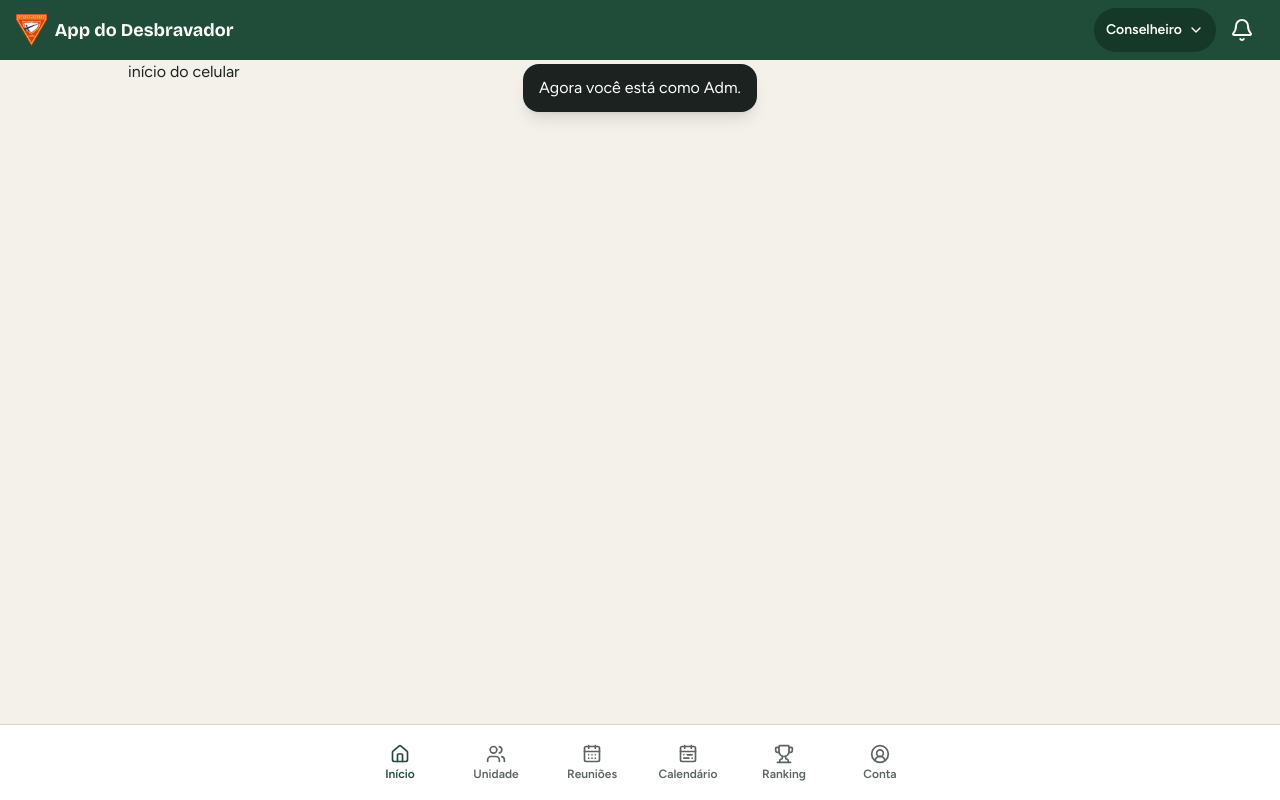
selo do papel › escolher o papel atual só fecha o menu
The image size is (1280, 800).
Click the button with aria-label "Papel: Conselheiro. Trocar de papel". click: (1155, 30)
box: x1=1094 y1=8 x2=1216 y2=52
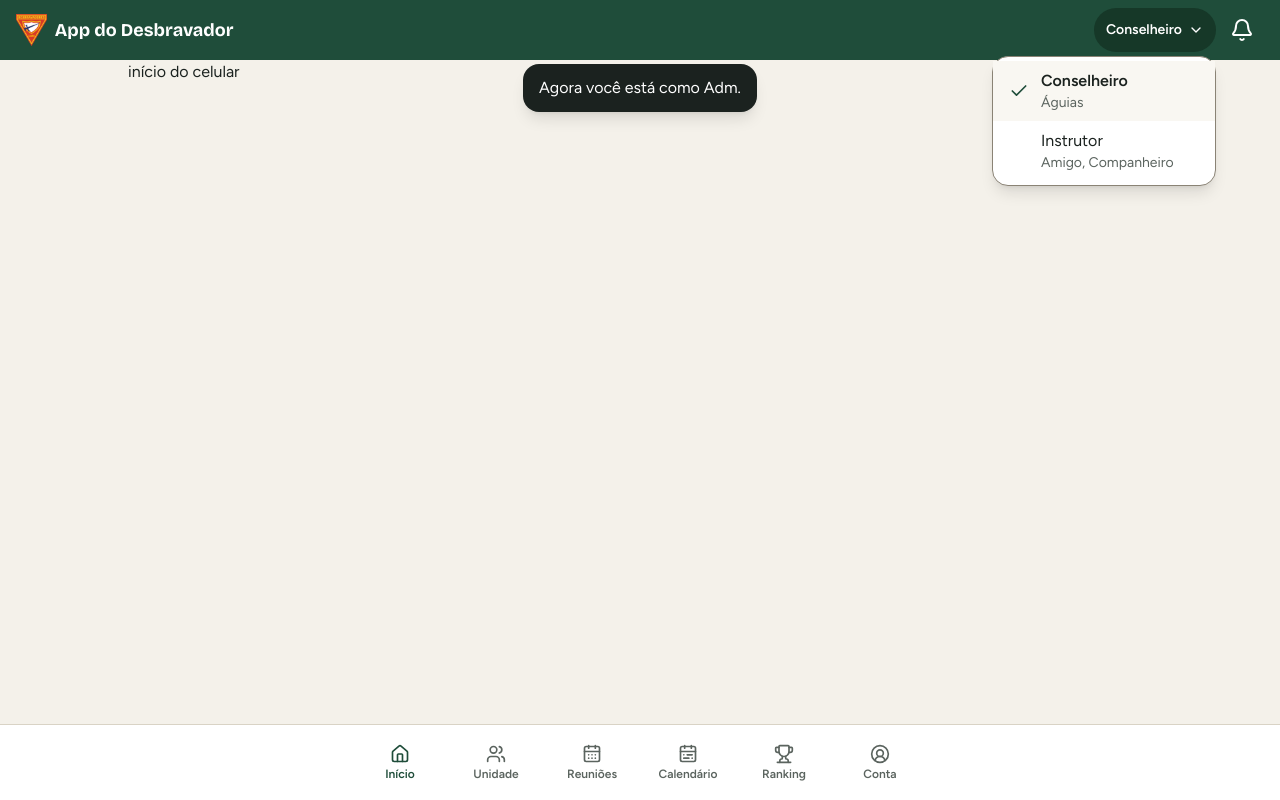
Click the menu item "Conselheiro Águias". click: (1104, 91)
box: x1=993 y1=61 x2=1215 y2=121
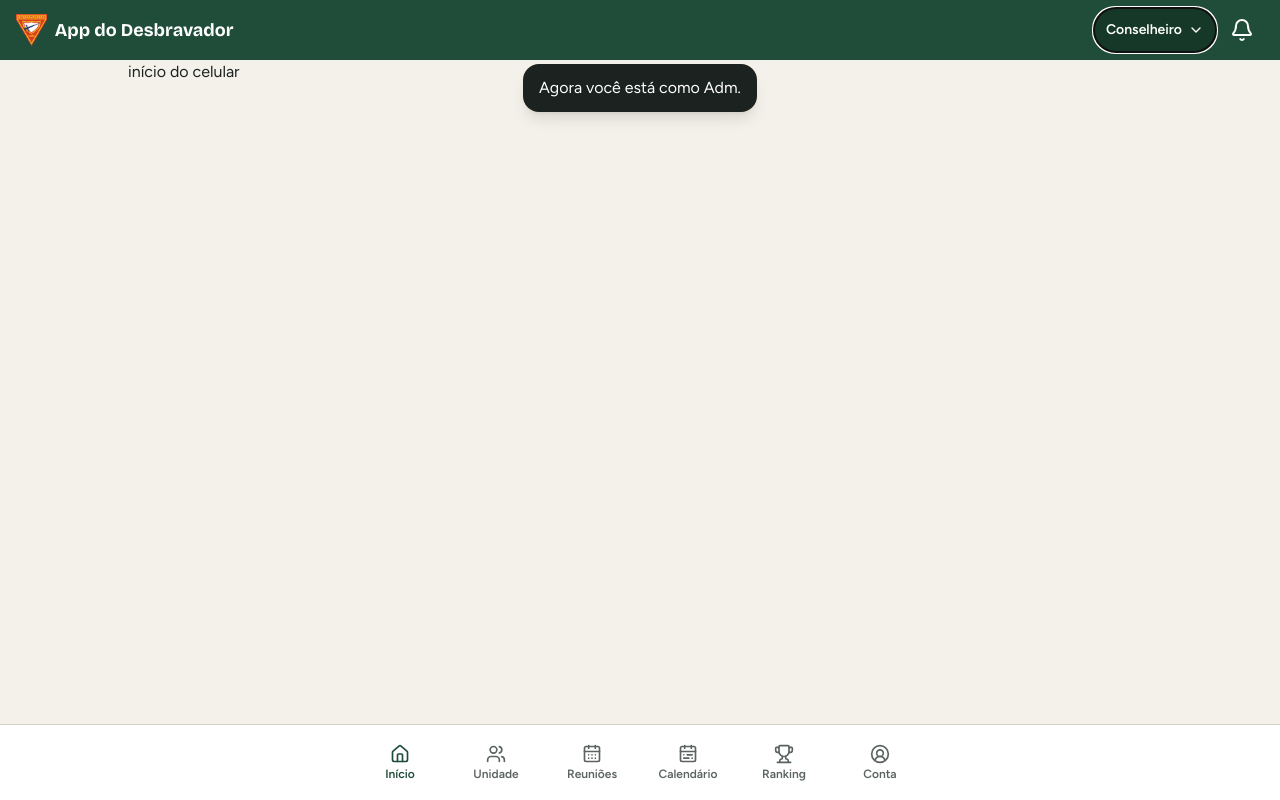
Expected: the menu is gone
